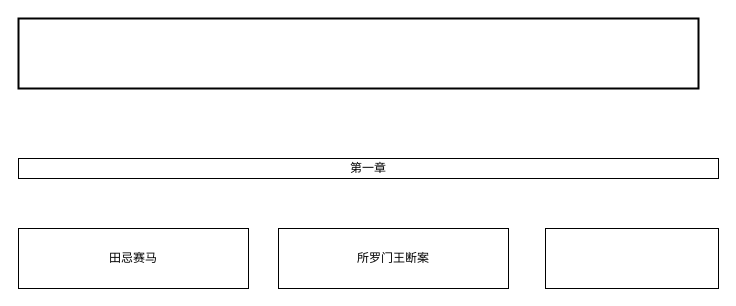
Some shapes in this 736 by 306 pixel diagram are drawn without their labels. The shapes that lost their labels are listed below. From the top down, each one's centre as x and y in pixels, then its label:
At pixel 358 53: "博弈论".
At pixel 631 258: "指鹿为马-反面".
